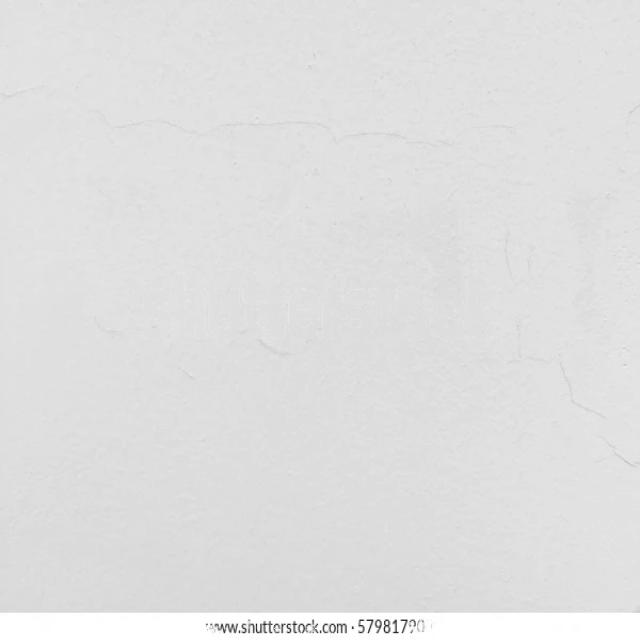rough and patchy surface: (4, 6, 636, 601)
